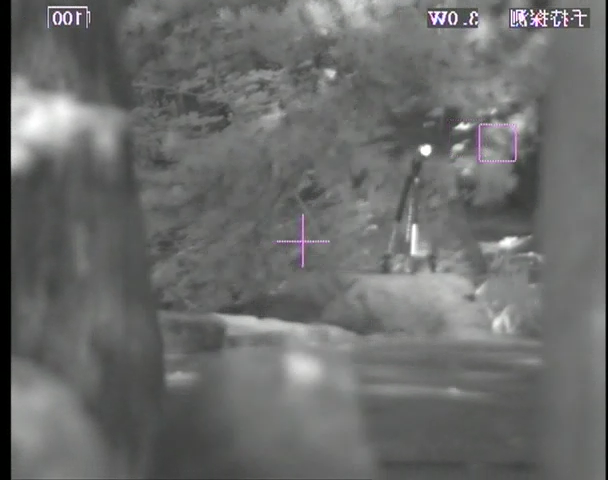my: (418, 143, 431, 158)
